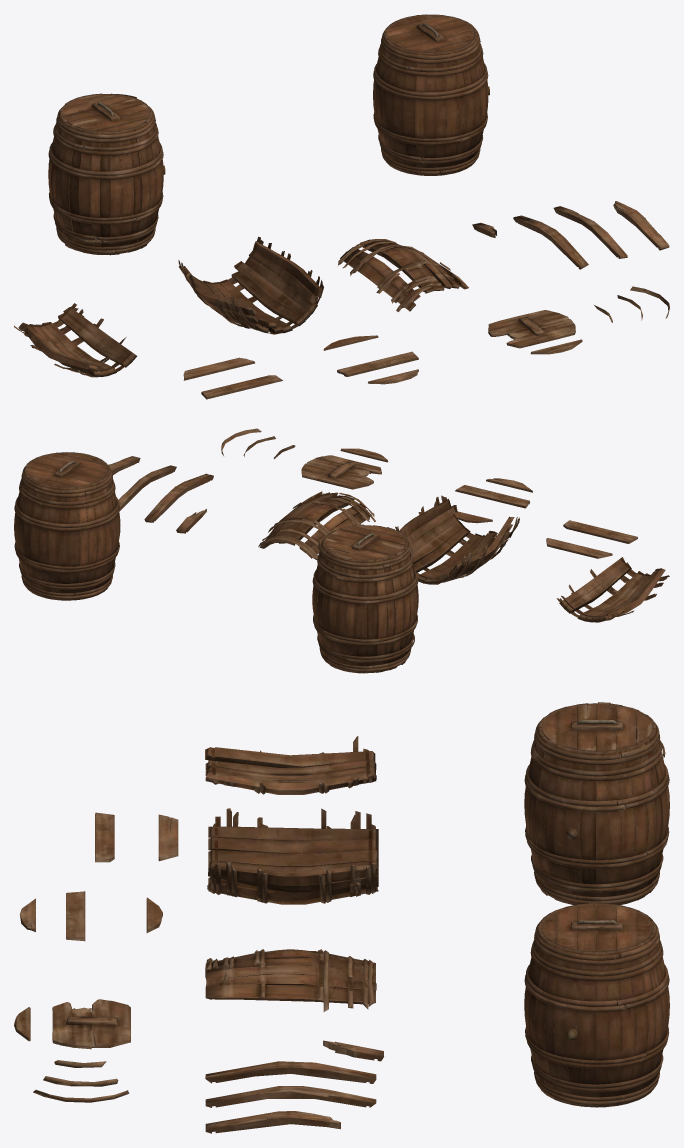
The model's file is wooden_barrels_01.glb.
The picture shows the model from 3 angles, top to bottom: view 1: azimuth 30°, elevation 25°; view 2: azimuth 150°, elevation 25°; view 3: azimuth 270°, elevation 25°; orthographic projection. The views are drawn at different scales.
Parts seen in each view (by area): view 1: wooden_barrels_01_piece01, wooden_barrels_01_barrel01, wooden_barrels_01_barrel02; view 2: wooden_barrels_01_piece01, wooden_barrels_01_barrel02, wooden_barrels_01_barrel01; view 3: wooden_barrels_01_piece01, wooden_barrels_01_barrel01, wooden_barrels_01_barrel02.
Part boxes in pixels (<box>): wooden_barrels_01_piece01: <box>14,201,669,399</box>; wooden_barrels_01_barrel01: <box>373,14,489,175</box>; wooden_barrels_01_barrel02: <box>48,93,165,255</box>; wooden_barrels_01_piece01: <box>108,428,669,622</box>; wooden_barrels_01_barrel02: <box>312,524,418,673</box>; wooden_barrels_01_barrel01: <box>14,452,120,600</box>; wooden_barrels_01_piece01: <box>14,736,383,1133</box>; wooden_barrels_01_barrel01: <box>524,903,669,1107</box>; wooden_barrels_01_barrel02: <box>524,702,669,904</box>.
Bounding box in the file's own units: 4.44 × 0.9555 × 3.34.
3 materials, 3 textured.
